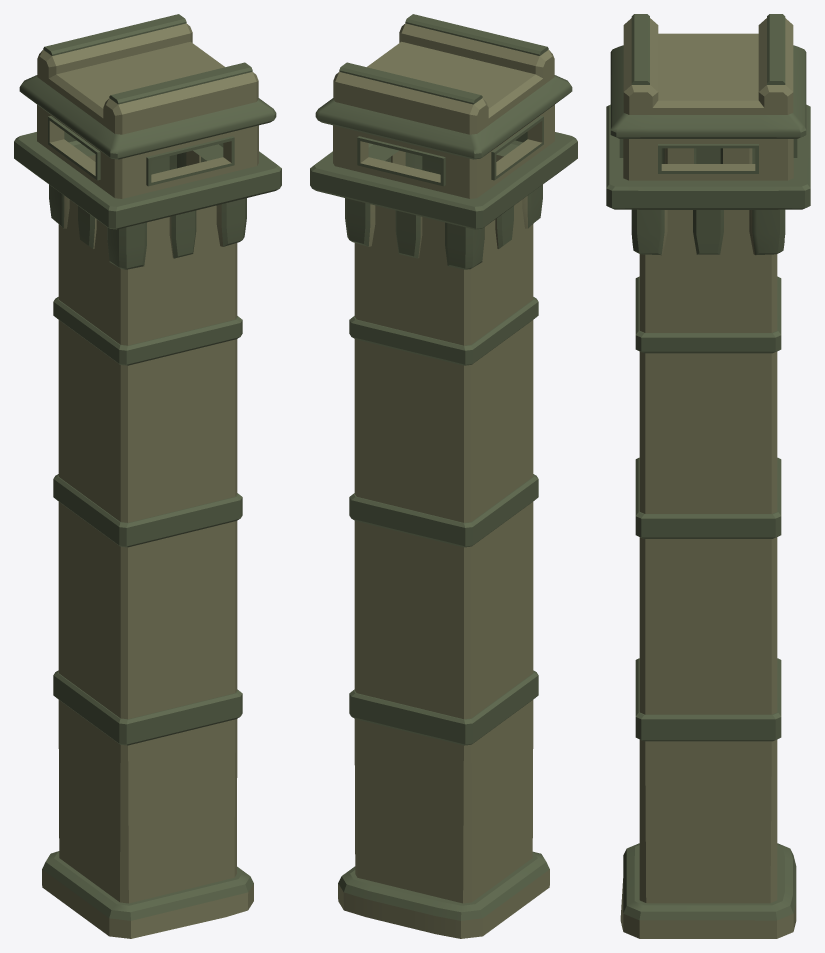
Rendered from pillar001.fbx.
The picture shows the model from 3 angles, left to right: view 1: azimuth 30°, elevation 25°; view 2: azimuth 150°, elevation 25°; view 3: azimuth 270°, elevation 25°; orthographic projection. The views are drawn at different scales.
Parts seen in each view (by area): view 1: pillar001; view 2: pillar001; view 3: pillar001.
Part boxes in pixels (x1,y1,x2,y2): pillar001: [14, 14, 281, 938]; pillar001: [310, 14, 577, 938]; pillar001: [606, 14, 810, 938].
Size of the model in its own units: 0.9998 by 4.62 by 0.9998.
